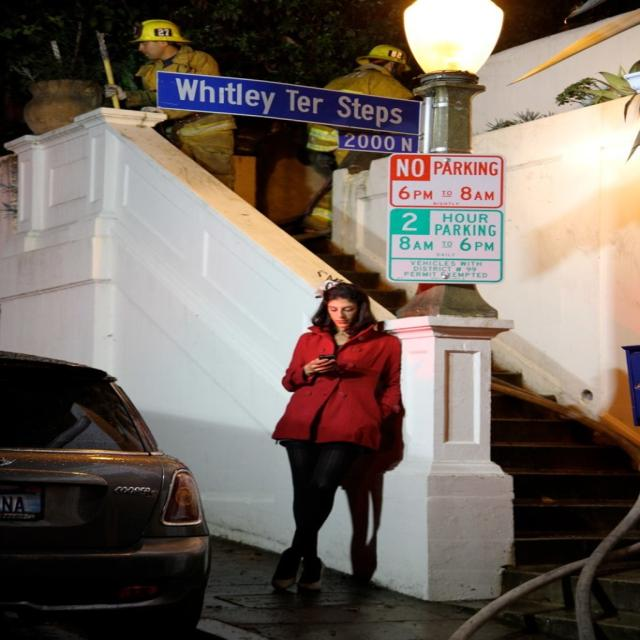car: (6, 374, 207, 627)
